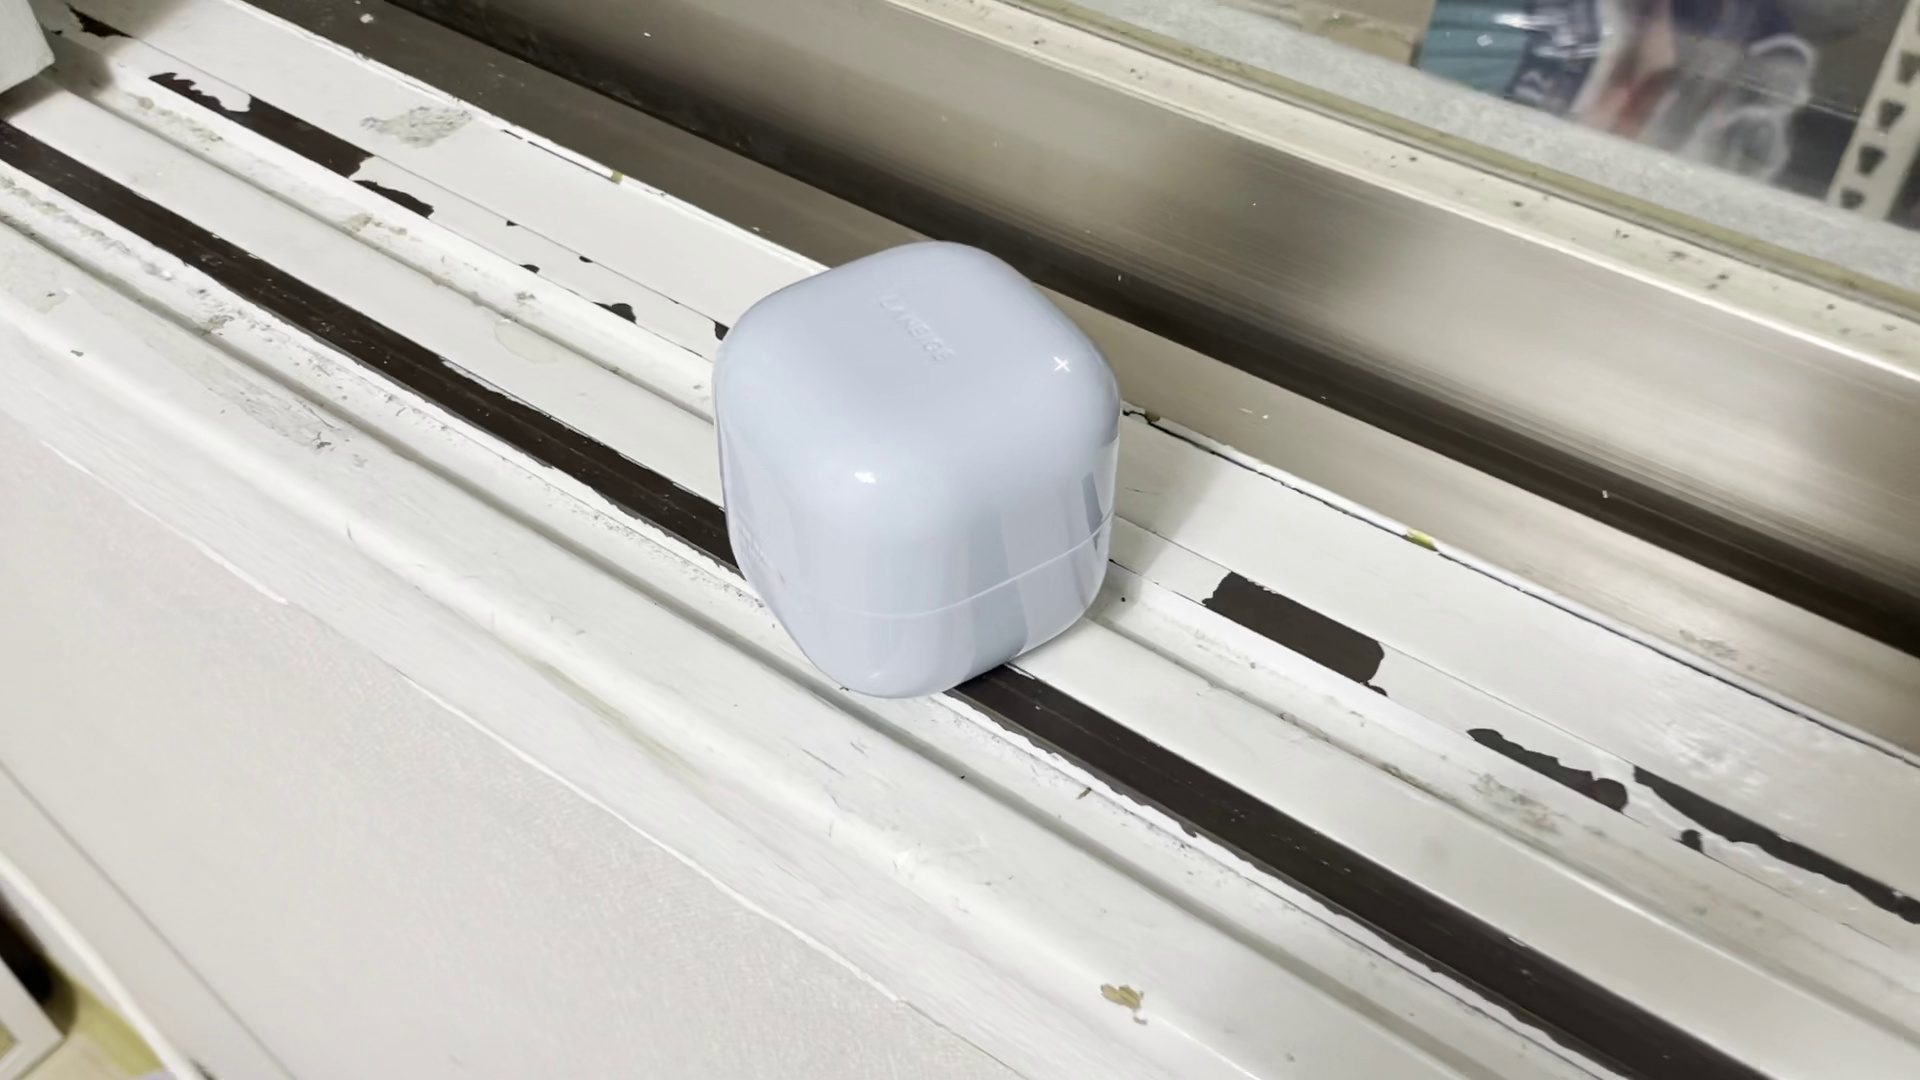cream: (709, 237, 1114, 702)
